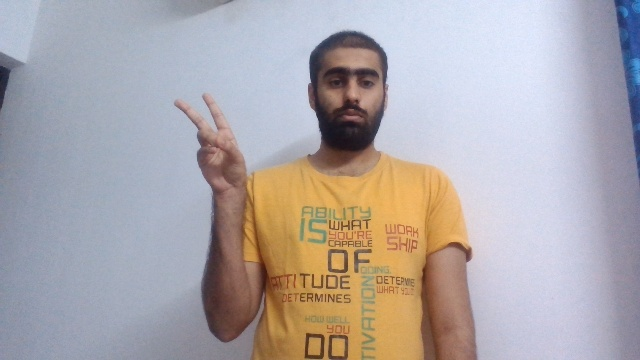scissors: (173, 92, 248, 193)
